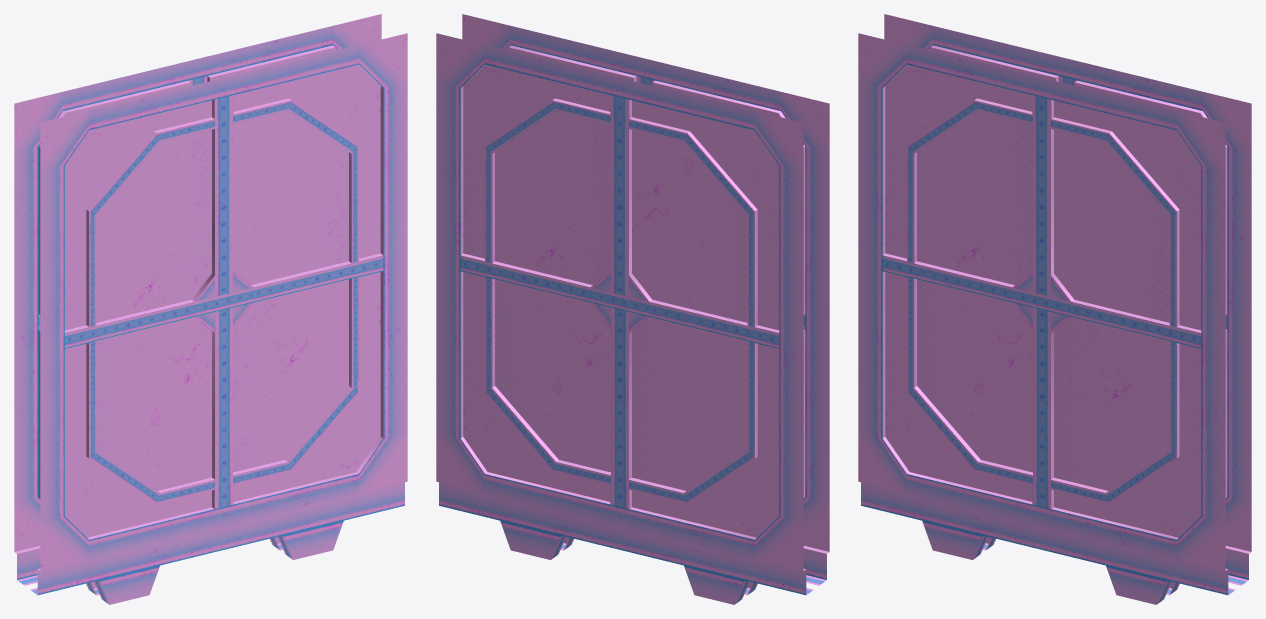
The model's file is SecurityDoor_01_SM_low.fbx.
3 views of the same model, side by side, from view 1: azimuth 30°, elevation 25°; view 2: azimuth 150°, elevation 25°; view 3: azimuth 330°, elevation 25° (orthographic).
Visible parts, largest first — view 1: SecurityDoor_Base; view 2: SecurityDoor_Base; view 3: SecurityDoor_Base.
Boxes of the visible parts, bbox=[...] form: SecurityDoor_Base: bbox=[14, 14, 407, 604]; SecurityDoor_Base: bbox=[436, 14, 829, 604]; SecurityDoor_Base: bbox=[858, 14, 1251, 604].
Size of the model in its own units: 206 by 269 by 25.38.
Materials: 2 (2 with a texture image).
